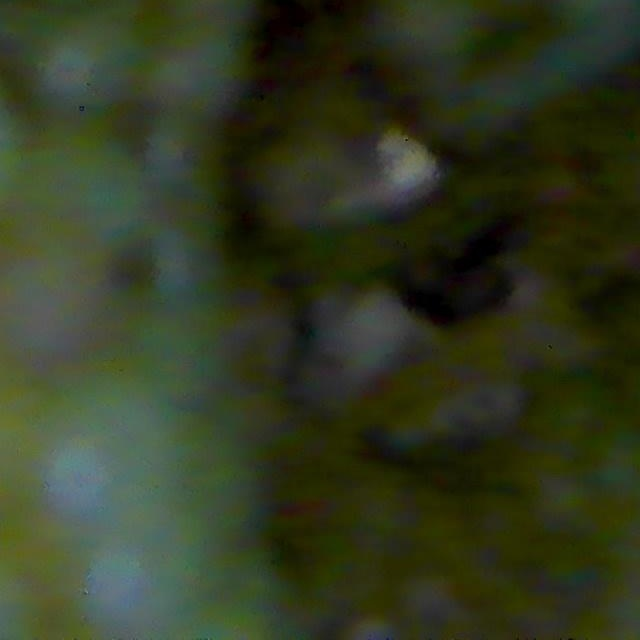SeaGrape: (13, 366, 191, 564), (32, 14, 138, 113), (149, 21, 251, 119), (365, 0, 474, 78)
